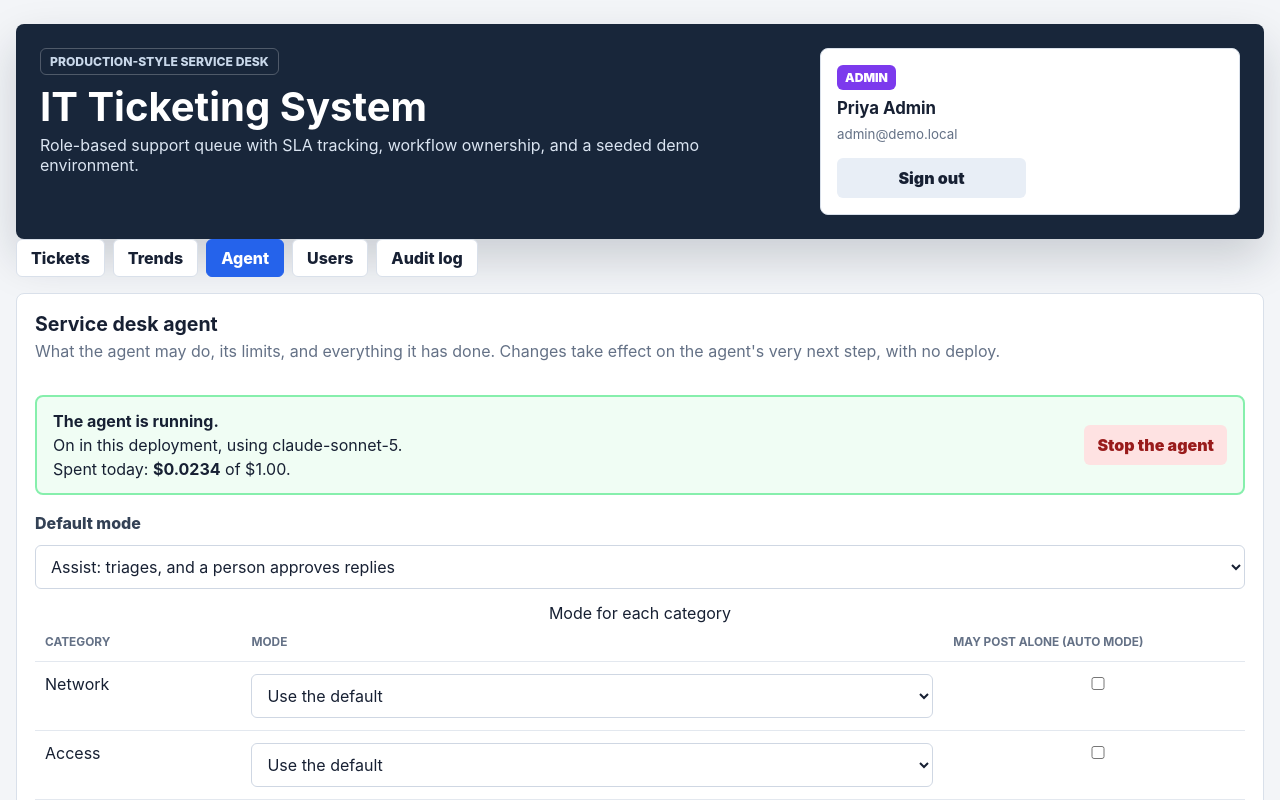
the kill switch › stops the agent at once, and says so, and can resume it
The image size is (1280, 800).
Expected: the heading "Service desk agent" is shown, [35, 312, 218, 336]
Step 1. Click the button "Stop the agent" → (1156, 445), box [1084, 425, 1227, 465]
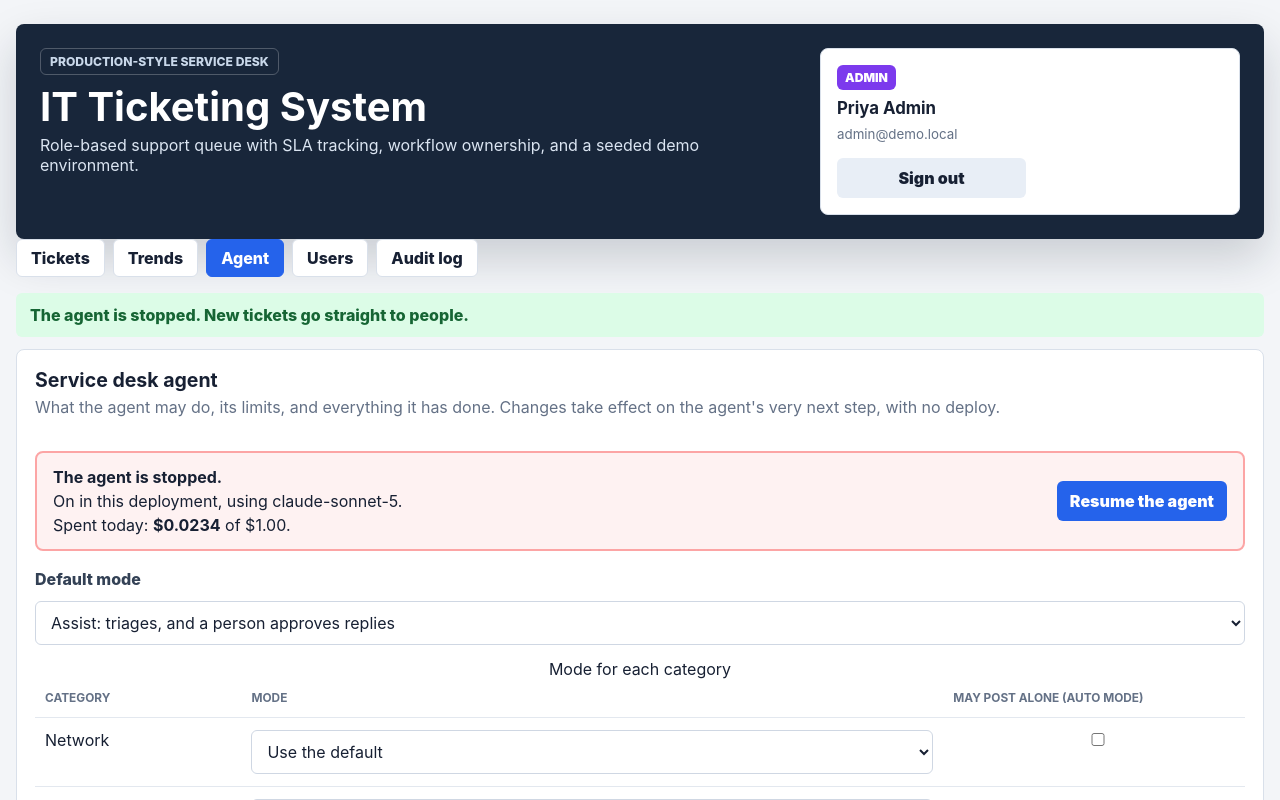
Expected: the text "The agent is stopped." is shown, [53, 467, 222, 487]
Expected: the text "The agent is stopped. New tickets go straight to people." is shown, [30, 305, 469, 325]
Step 2. Click the button "Resume the agent" → (1142, 501), box [1057, 481, 1227, 521]
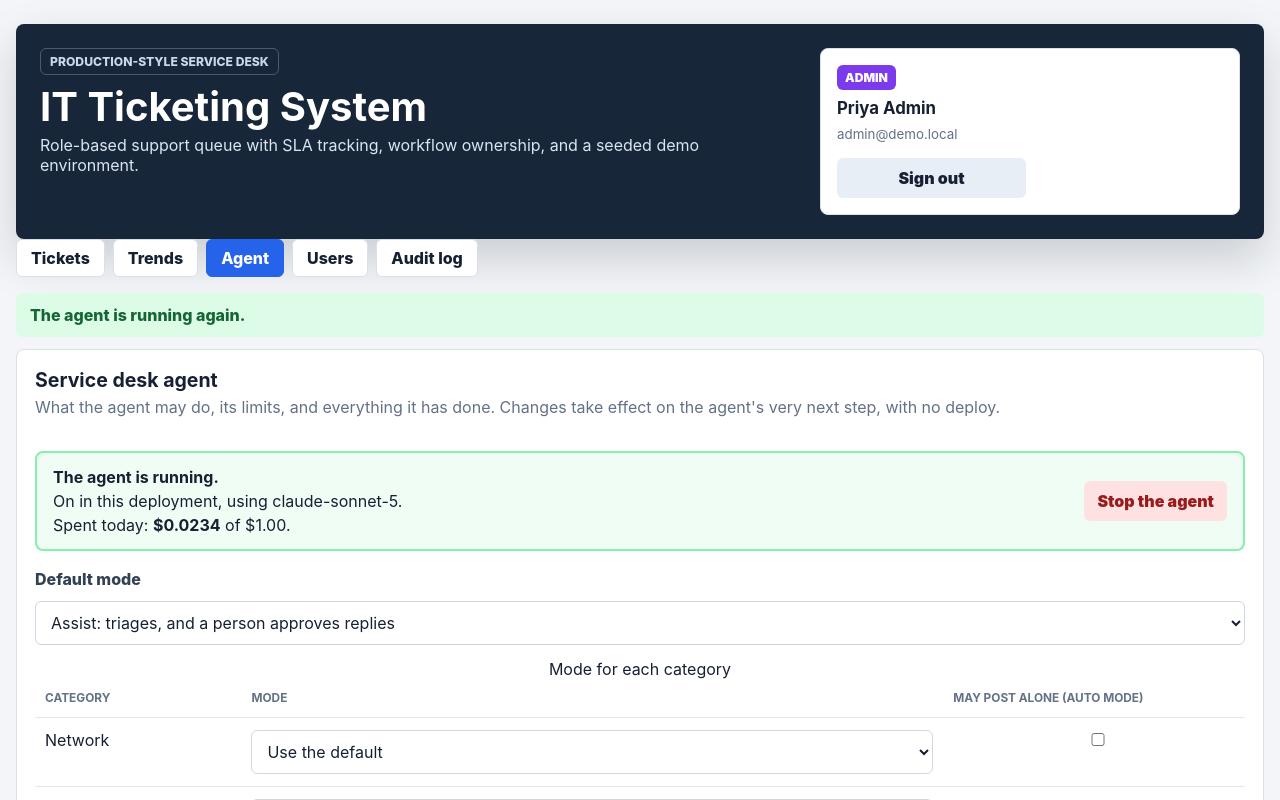
Expected: the text "The agent is running." is shown, [53, 467, 219, 487]
